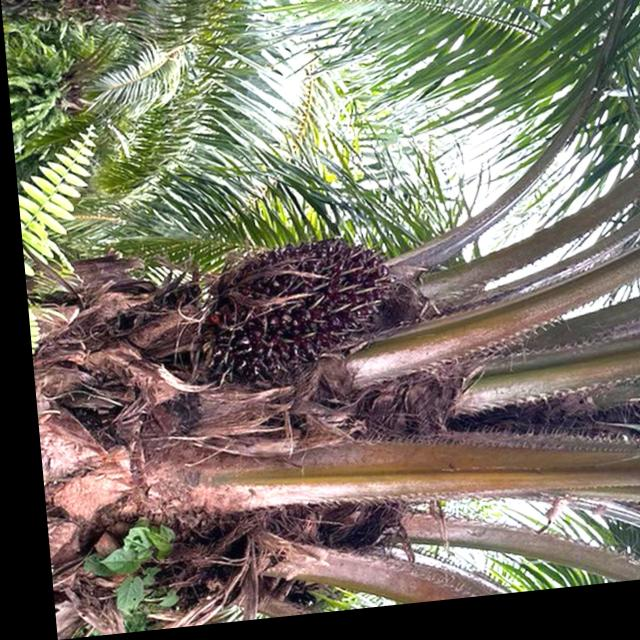ripe: (180, 224, 409, 398)
